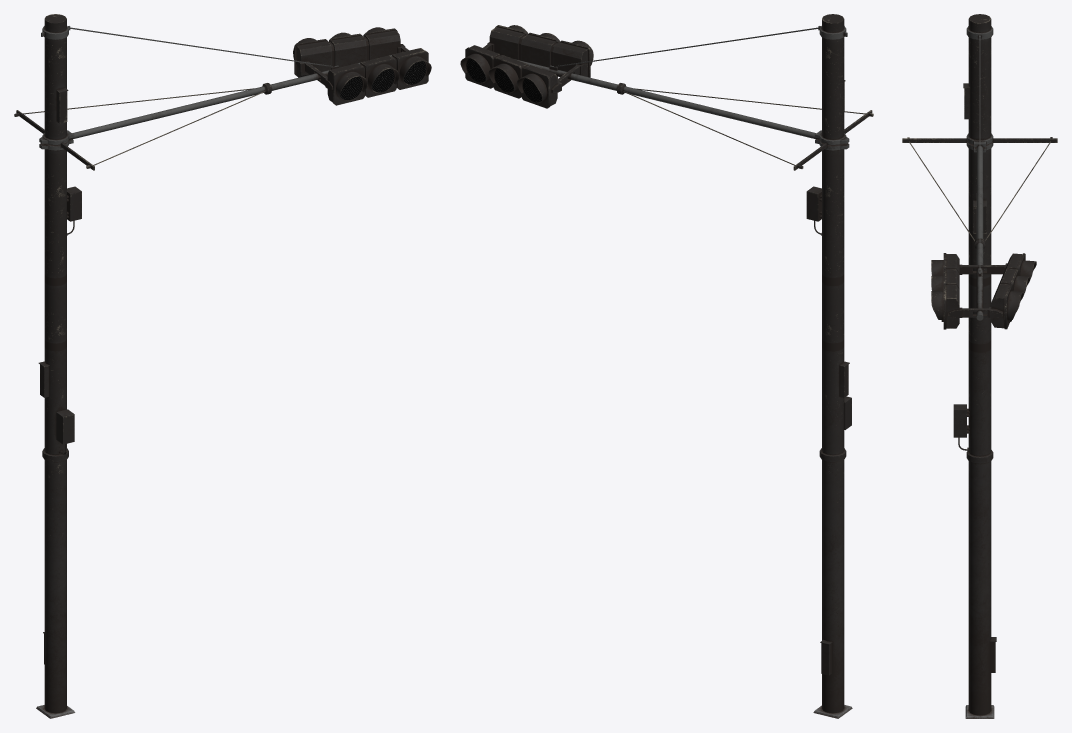
Rendered from jctTrafficLightD.fbx.
3 renders of one model, left to right at view 1: azimuth 30°, elevation 25°; view 2: azimuth 150°, elevation 25°; view 3: azimuth 270°, elevation 25°, orthographic.
Visible parts, largest first — view 1: jctTrafficLightD; view 2: jctTrafficLightD; view 3: jctTrafficLightD.
Boxes of the visible parts, bbox=[...] form: jctTrafficLightD: bbox=[14, 14, 431, 718]; jctTrafficLightD: bbox=[460, 14, 873, 718]; jctTrafficLightD: bbox=[902, 14, 1057, 718].
Size of the model in its own units: 428 by 752 by 153.
